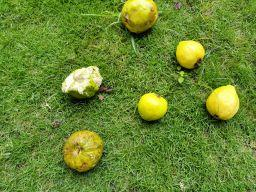guava: (60, 129, 105, 174), (60, 63, 104, 101), (204, 83, 241, 123), (121, 0, 159, 34), (136, 87, 169, 123), (174, 38, 206, 71)
